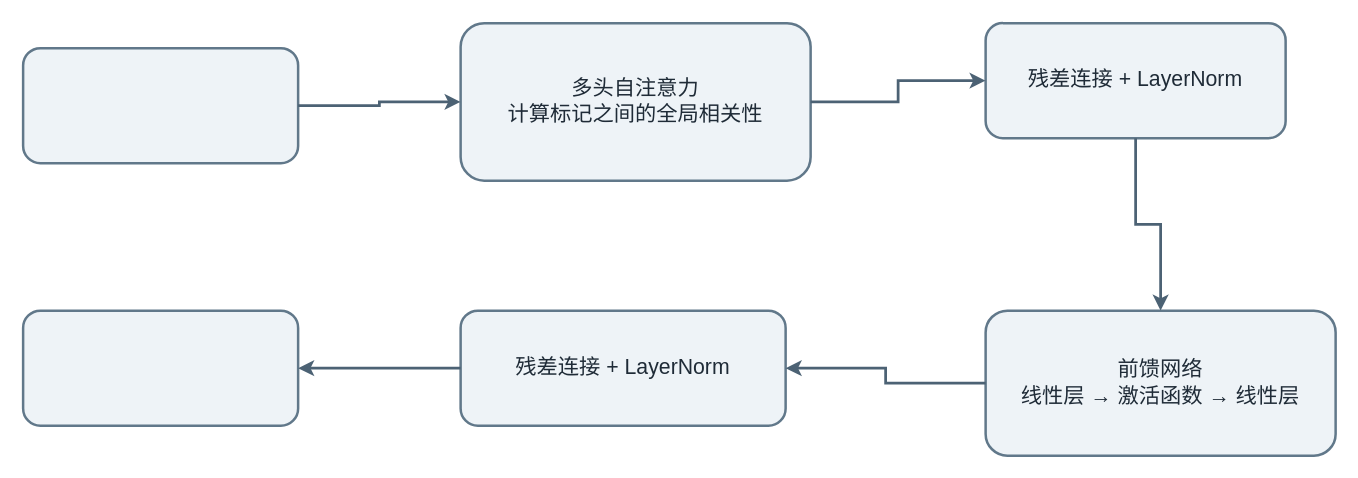
This 1358x478 diagram has some shape labels left out. The centre of each missing label's shape, as x and y in pixels:
"输入标记序列" goes at [160,105].
"输出标记序列" goes at [160,367].
